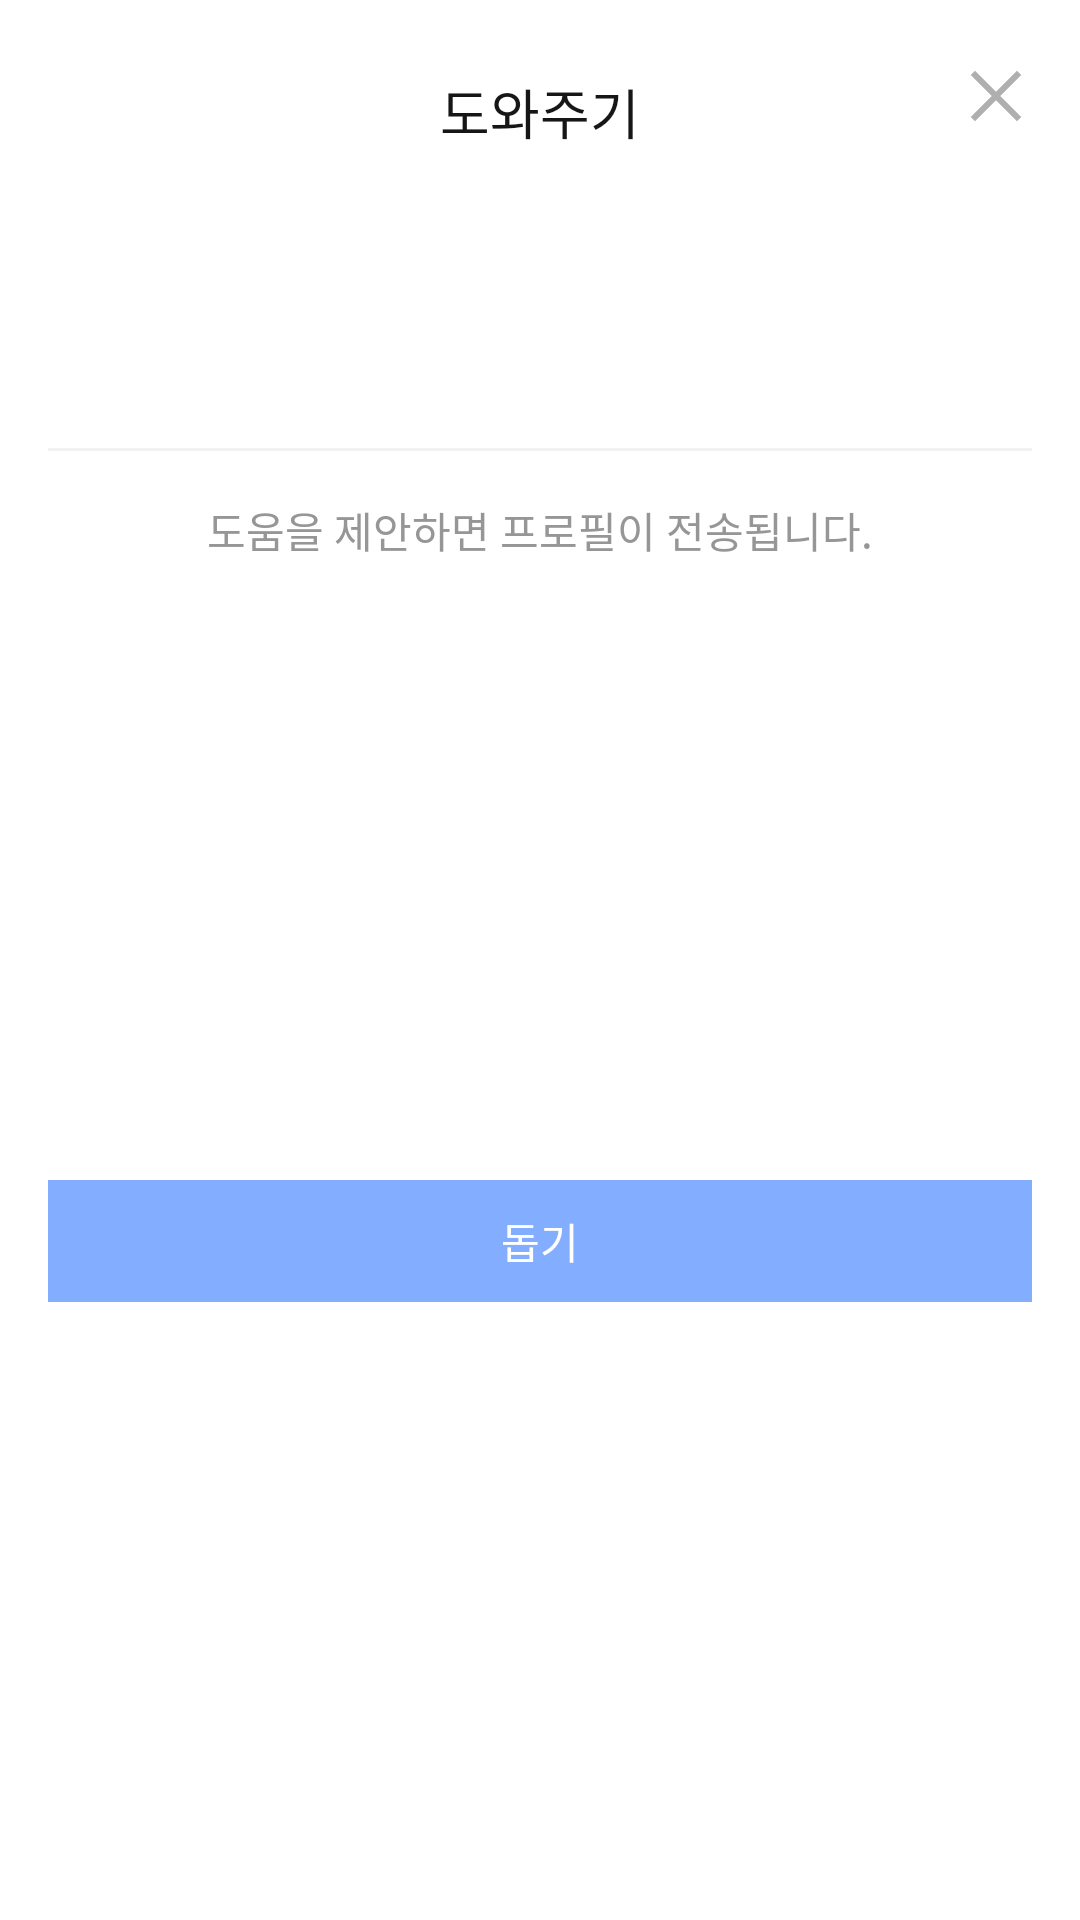

Point at icon controls on the screen. Image size 1080×1920, points as [x,y].
close: [996,96]
